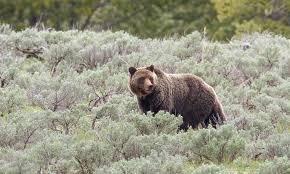bear: (129, 64, 227, 130)
